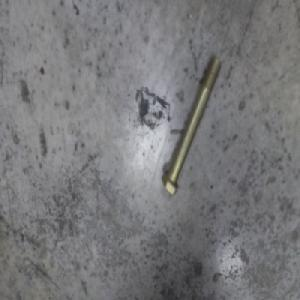Bolt: (160, 58, 219, 195)
